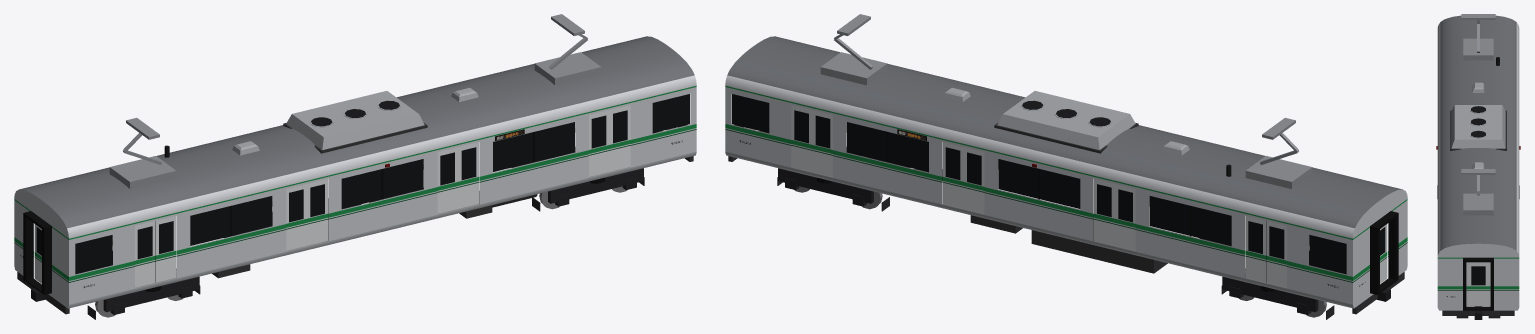
The model's file is r122_Mp_mid.glb.
3 renders of one model, left to right at view 1: azimuth 30°, elevation 25°; view 2: azimuth 150°, elevation 25°; view 3: azimuth 270°, elevation 25°, orthographic. The views are drawn at different scales.
Parts seen in each view (by area): view 1: body_shell, mid_sides, mid_roof_under, opt_ac, opt_snow_panto, mid_end_R, door_R2f, door_R4f, door_R1f, door_R2r, door_R3r, door_R1r (+3 smaller); view 2: body_shell, mid_sides, mid_roof_under, opt_ac, opt_snow_panto, mid_end_R, door_L2f, door_L4f, door_L1f, door_L2r, door_L3r, door_L1r (+3 smaller); view 3: body_shell, opt_ac, mid_roof_under, gw_door_F, opt_snow_panto, mid_end_F, roof_vents.
Part boxes in pixels (bbox=[...]): body_shell: bbox=[14, 36, 696, 308]; mid_sides: bbox=[75, 94, 689, 287]; mid_roof_under: bbox=[17, 117, 693, 317]; opt_ac: bbox=[283, 91, 427, 153]; opt_snow_panto: bbox=[534, 14, 601, 85]; mid_end_R: bbox=[20, 211, 51, 294]; door_R2f: bbox=[458, 142, 479, 208]; door_R4f: bbox=[155, 216, 176, 282]; door_R1f: bbox=[609, 105, 630, 171]; door_R2r: bbox=[437, 147, 458, 213]; door_R3r: bbox=[286, 184, 306, 250]; door_R1r: bbox=[589, 110, 609, 176]; body_shell: bbox=[725, 36, 1407, 308]; mid_sides: bbox=[732, 94, 1346, 288]; mid_roof_under: bbox=[728, 117, 1404, 317]; opt_ac: bbox=[994, 91, 1138, 153]; opt_snow_panto: bbox=[820, 14, 887, 85]; mid_end_R: bbox=[1359, 211, 1398, 294]; door_L2f: bbox=[942, 142, 963, 208]; door_L4f: bbox=[1245, 216, 1266, 282]; door_L1f: bbox=[791, 105, 812, 171]; door_L2r: bbox=[963, 147, 984, 213]; door_L3r: bbox=[1115, 184, 1135, 250]; door_L1r: bbox=[812, 110, 832, 176]; body_shell: bbox=[1437, 15, 1519, 310]; opt_ac: bbox=[1450, 105, 1506, 150]; mid_roof_under: bbox=[1442, 14, 1514, 319]; gw_door_F: bbox=[1467, 262, 1489, 306]; opt_snow_panto: bbox=[1461, 169, 1495, 215]; mid_end_F: bbox=[1446, 257, 1493, 310]; roof_vents: bbox=[1472, 82, 1484, 168].
Bounding box in the file's own units: 20 × 5.06 × 3.03.
21 materials, 2 textured.
